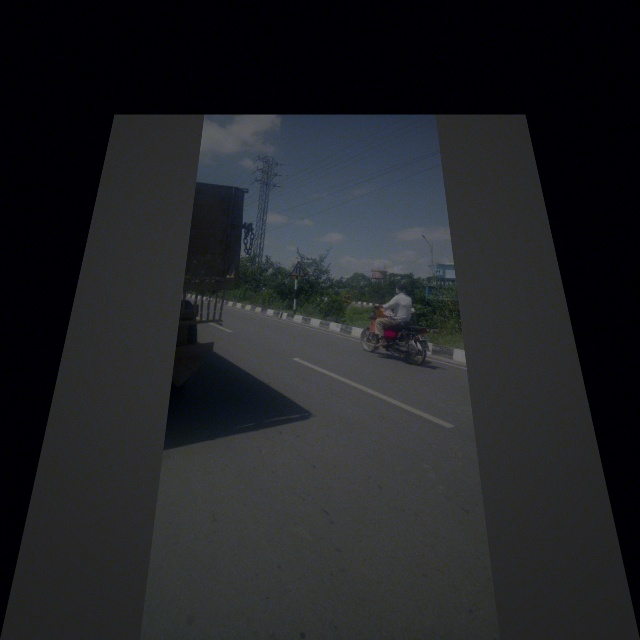U_Turn_Ahead: (286, 257, 310, 281)
